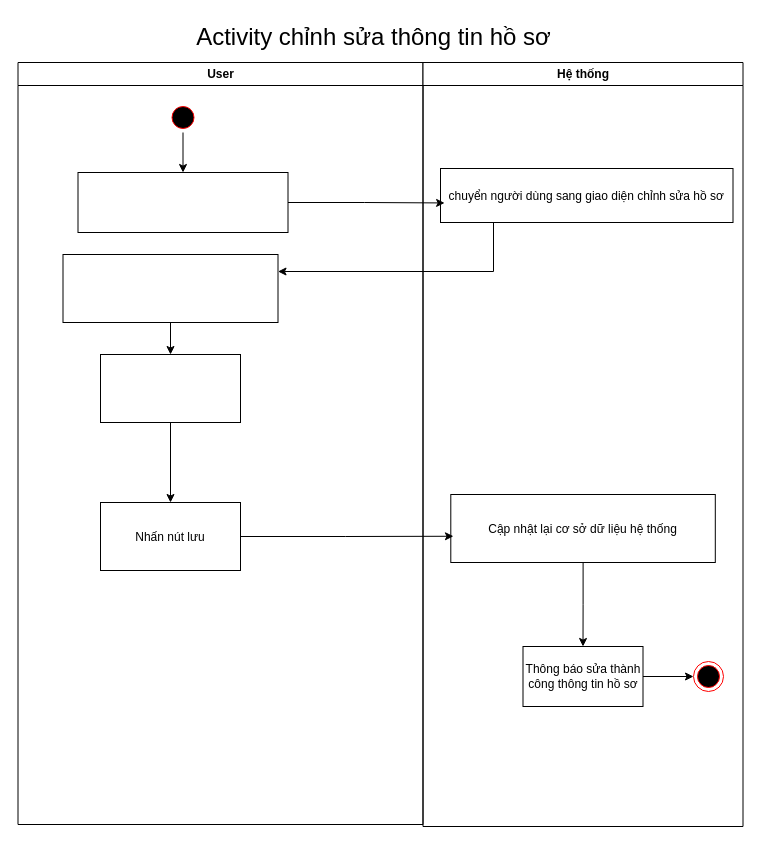
This 760x844 diagram has some shape labels left out. The shapes that lost their labels are listed below. From the top down, each one's box as (x1, y1, x2, y2) in pixels, then its label:
(77, 172, 288, 232): Bấm chọn phần chỉnh sửa hồ sơ
(62, 254, 278, 322): Chọn phần thông tin cần chỉnh sửa
(100, 354, 240, 422): Sửa thông tin
